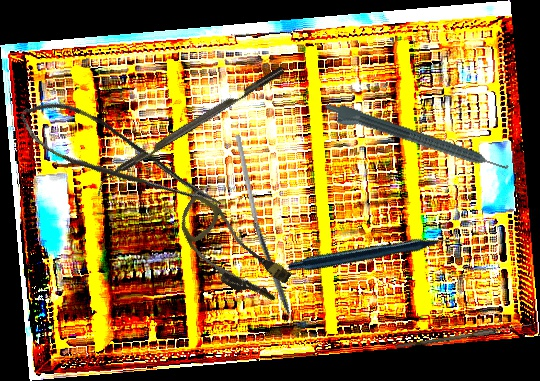Cannula: (162, 192, 301, 312)
Chopper: (89, 66, 291, 197), (245, 221, 299, 332)
Handpiece: (286, 176, 465, 336), (320, 99, 511, 183)
Micro Scissor: (11, 81, 226, 245)
Pusher: (234, 134, 265, 249)
Surgical Spoon: (394, 320, 533, 352)
